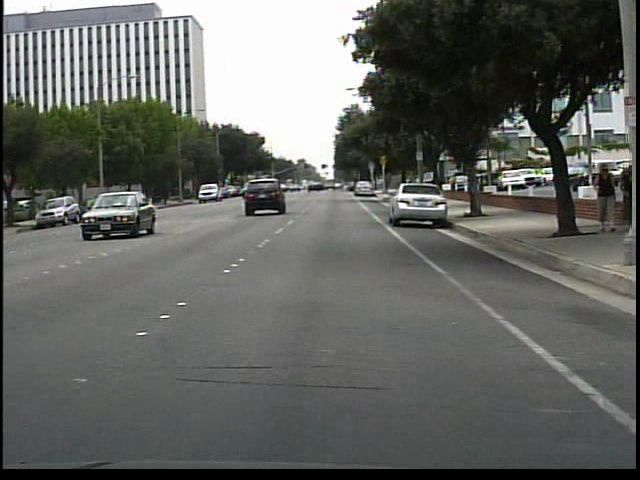person: (587, 158, 615, 236), (613, 159, 633, 233)
